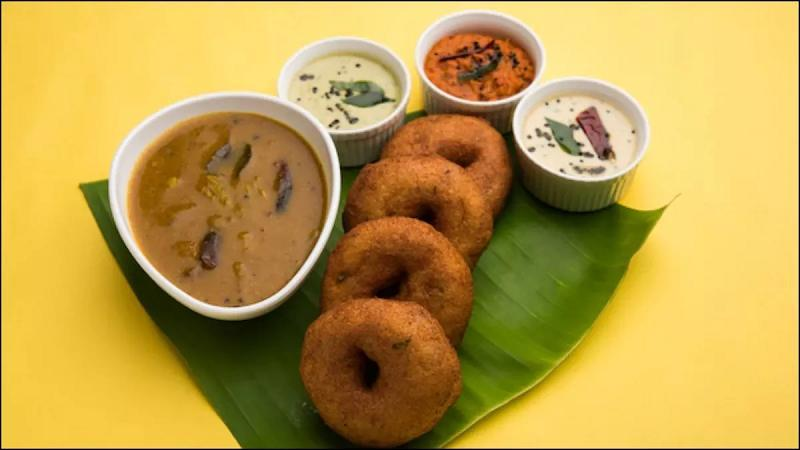mvada: (363, 170, 481, 283)
